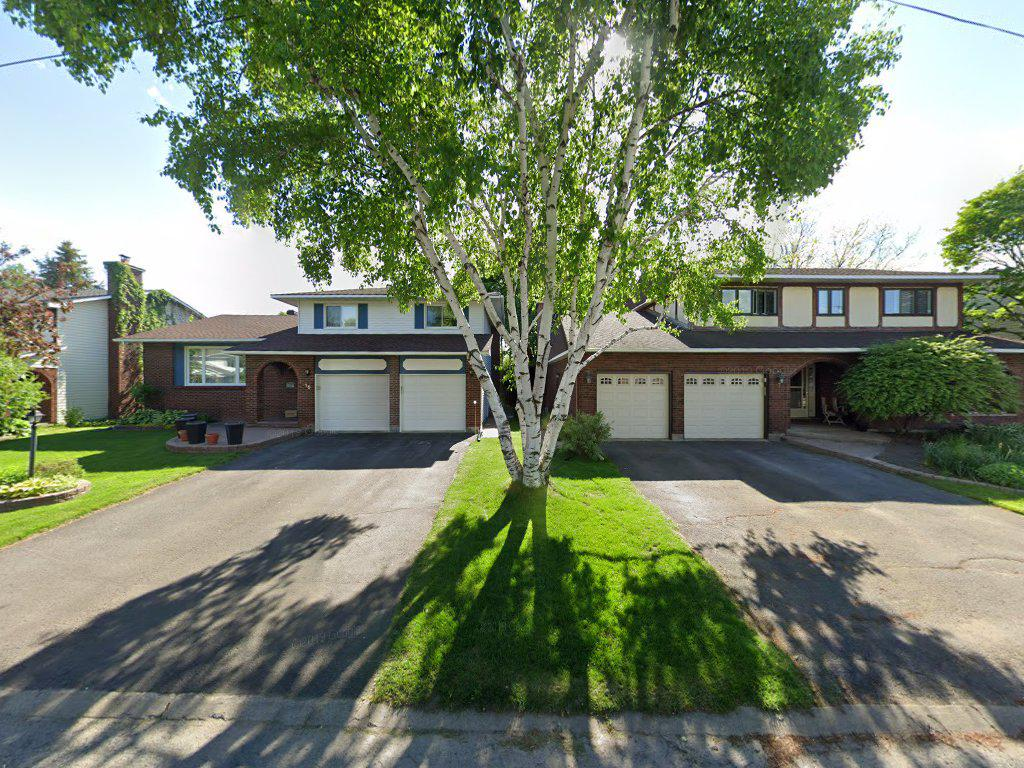trunk: (477, 314, 582, 501)
